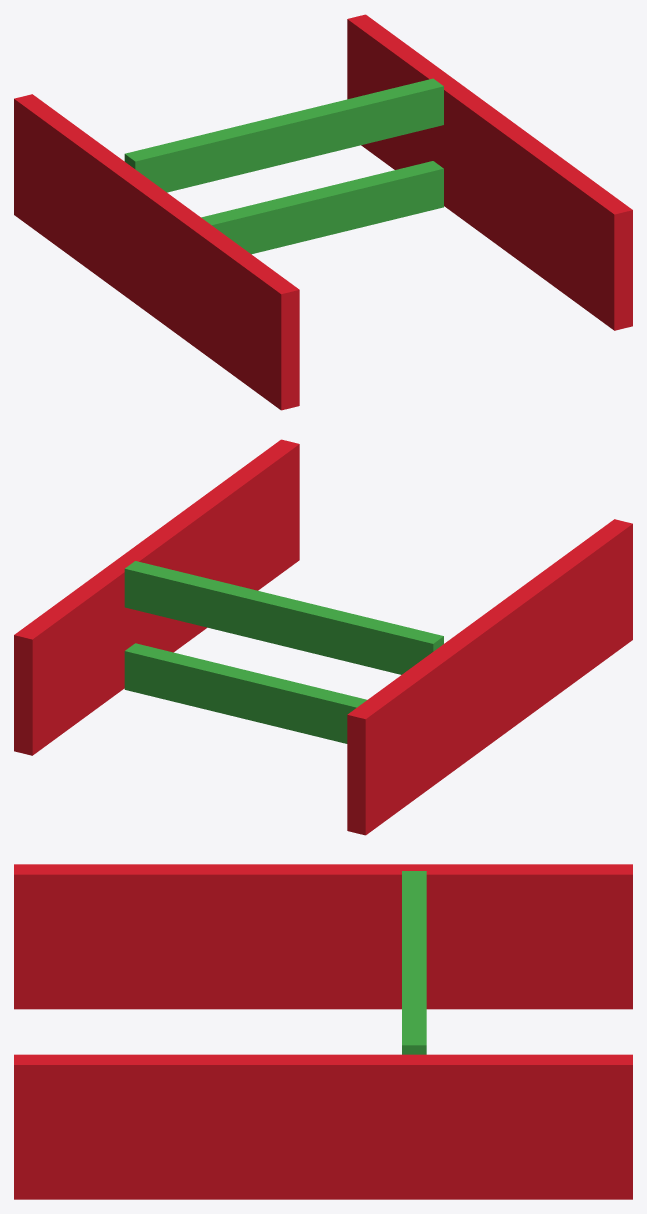
File: tinker.obj
The picture shows the model from 3 angles, top to bottom: view 1: azimuth 30°, elevation 25°; view 2: azimuth 150°, elevation 25°; view 3: azimuth 270°, elevation 25°; orthographic projection. The views are drawn at different scales.
Parts seen in each view (by area): view 1: group_0_15277357, group_0_4634441; view 2: group_0_15277357, group_0_4634441; view 3: group_0_15277357, group_0_4634441.
Boxes of the visible parts, <box> form: group_0_15277357: <box>14,14,632,410</box>; group_0_4634441: <box>124,78,443,254</box>; group_0_15277357: <box>14,439,632,835</box>; group_0_4634441: <box>124,561,443,743</box>; group_0_15277357: <box>14,864,632,1199</box>; group_0_4634441: <box>402,871,426,1054</box>.
Bounding box in the file's own units: 228 × 76 × 300.
